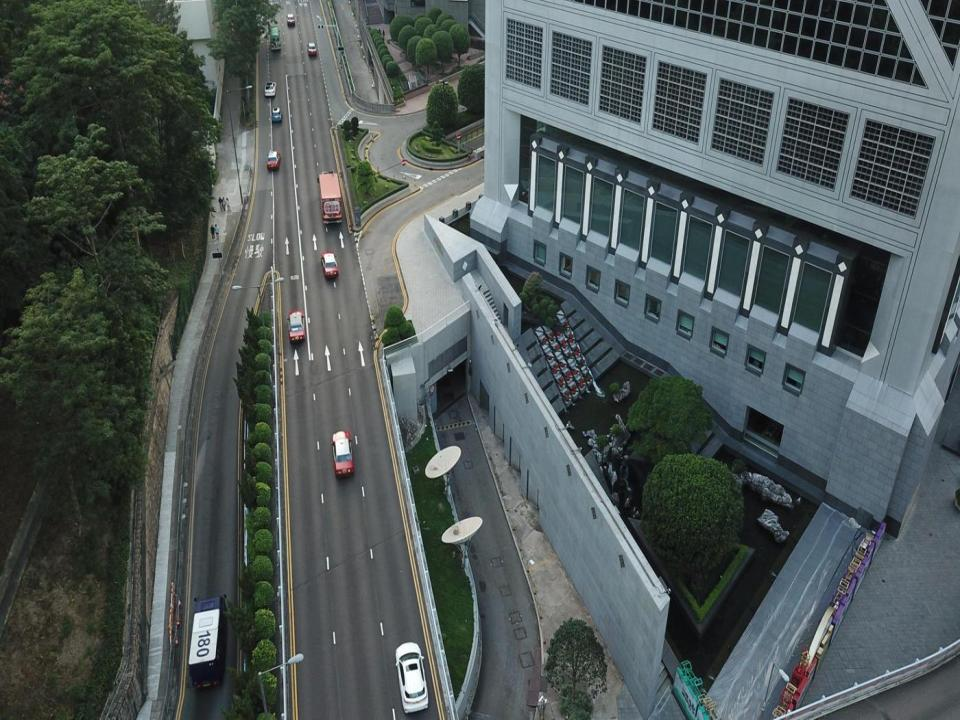car: (395, 642, 428, 714), (331, 430, 354, 477), (286, 310, 306, 344), (320, 251, 338, 278), (267, 151, 280, 171), (264, 82, 276, 96), (271, 107, 282, 121), (307, 42, 316, 55), (287, 14, 295, 26)
truck: (188, 596, 226, 690), (317, 171, 342, 223)
van: (270, 26, 280, 50)
